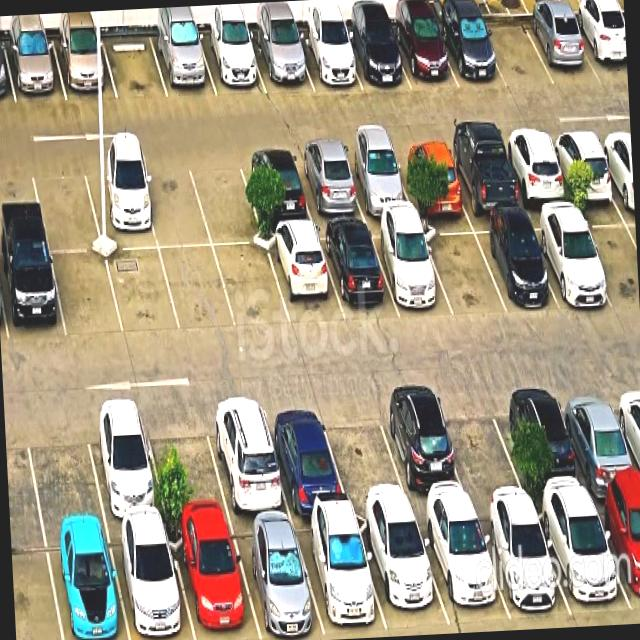car: (534, 497, 634, 623), (293, 514, 389, 640), (375, 389, 473, 510), (229, 519, 326, 640), (474, 504, 572, 620), (415, 507, 511, 625), (167, 521, 261, 640), (355, 513, 450, 629), (203, 396, 291, 518), (506, 382, 592, 501), (261, 398, 349, 514), (82, 404, 167, 524), (108, 523, 195, 640), (44, 526, 129, 640), (556, 381, 640, 496), (526, 209, 614, 307), (471, 217, 558, 312), (265, 227, 344, 327), (317, 224, 399, 320), (369, 223, 453, 316), (82, 159, 158, 250), (0, 249, 66, 342), (444, 137, 523, 214), (238, 150, 314, 227), (592, 492, 640, 613), (292, 147, 366, 222), (340, 145, 415, 217), (522, 16, 600, 85), (500, 132, 572, 206), (393, 141, 468, 212), (548, 130, 619, 201), (390, 19, 459, 90), (436, 19, 507, 88), (341, 24, 411, 90), (198, 32, 267, 96), (150, 33, 217, 97), (52, 36, 117, 101), (294, 30, 362, 91), (4, 38, 67, 103), (570, 13, 628, 82), (250, 32, 314, 93)
free: (437, 385, 529, 505), (142, 404, 231, 522), (319, 395, 411, 509), (22, 406, 105, 529), (420, 221, 507, 316), (187, 152, 264, 246), (138, 157, 212, 248), (30, 161, 103, 251), (106, 249, 181, 336), (160, 247, 236, 332), (51, 252, 124, 339), (578, 207, 640, 309), (214, 245, 290, 328), (479, 17, 554, 89), (102, 34, 168, 99)
